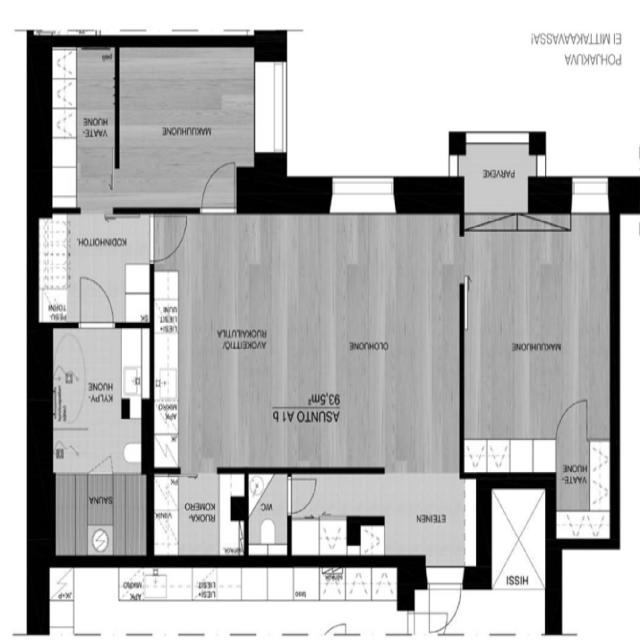door: (419, 575, 477, 637), (72, 268, 122, 336), (198, 156, 242, 230), (138, 209, 204, 257), (551, 389, 596, 448), (281, 469, 323, 515), (82, 456, 117, 492)
window: (248, 49, 286, 178), (322, 171, 404, 214), (568, 163, 612, 212)
zone: (152, 207, 461, 468), (460, 200, 603, 473), (120, 41, 258, 210), (288, 470, 484, 572), (41, 324, 151, 476), (31, 207, 155, 323), (40, 36, 120, 209), (151, 466, 251, 568), (36, 474, 151, 555), (245, 469, 289, 569)
